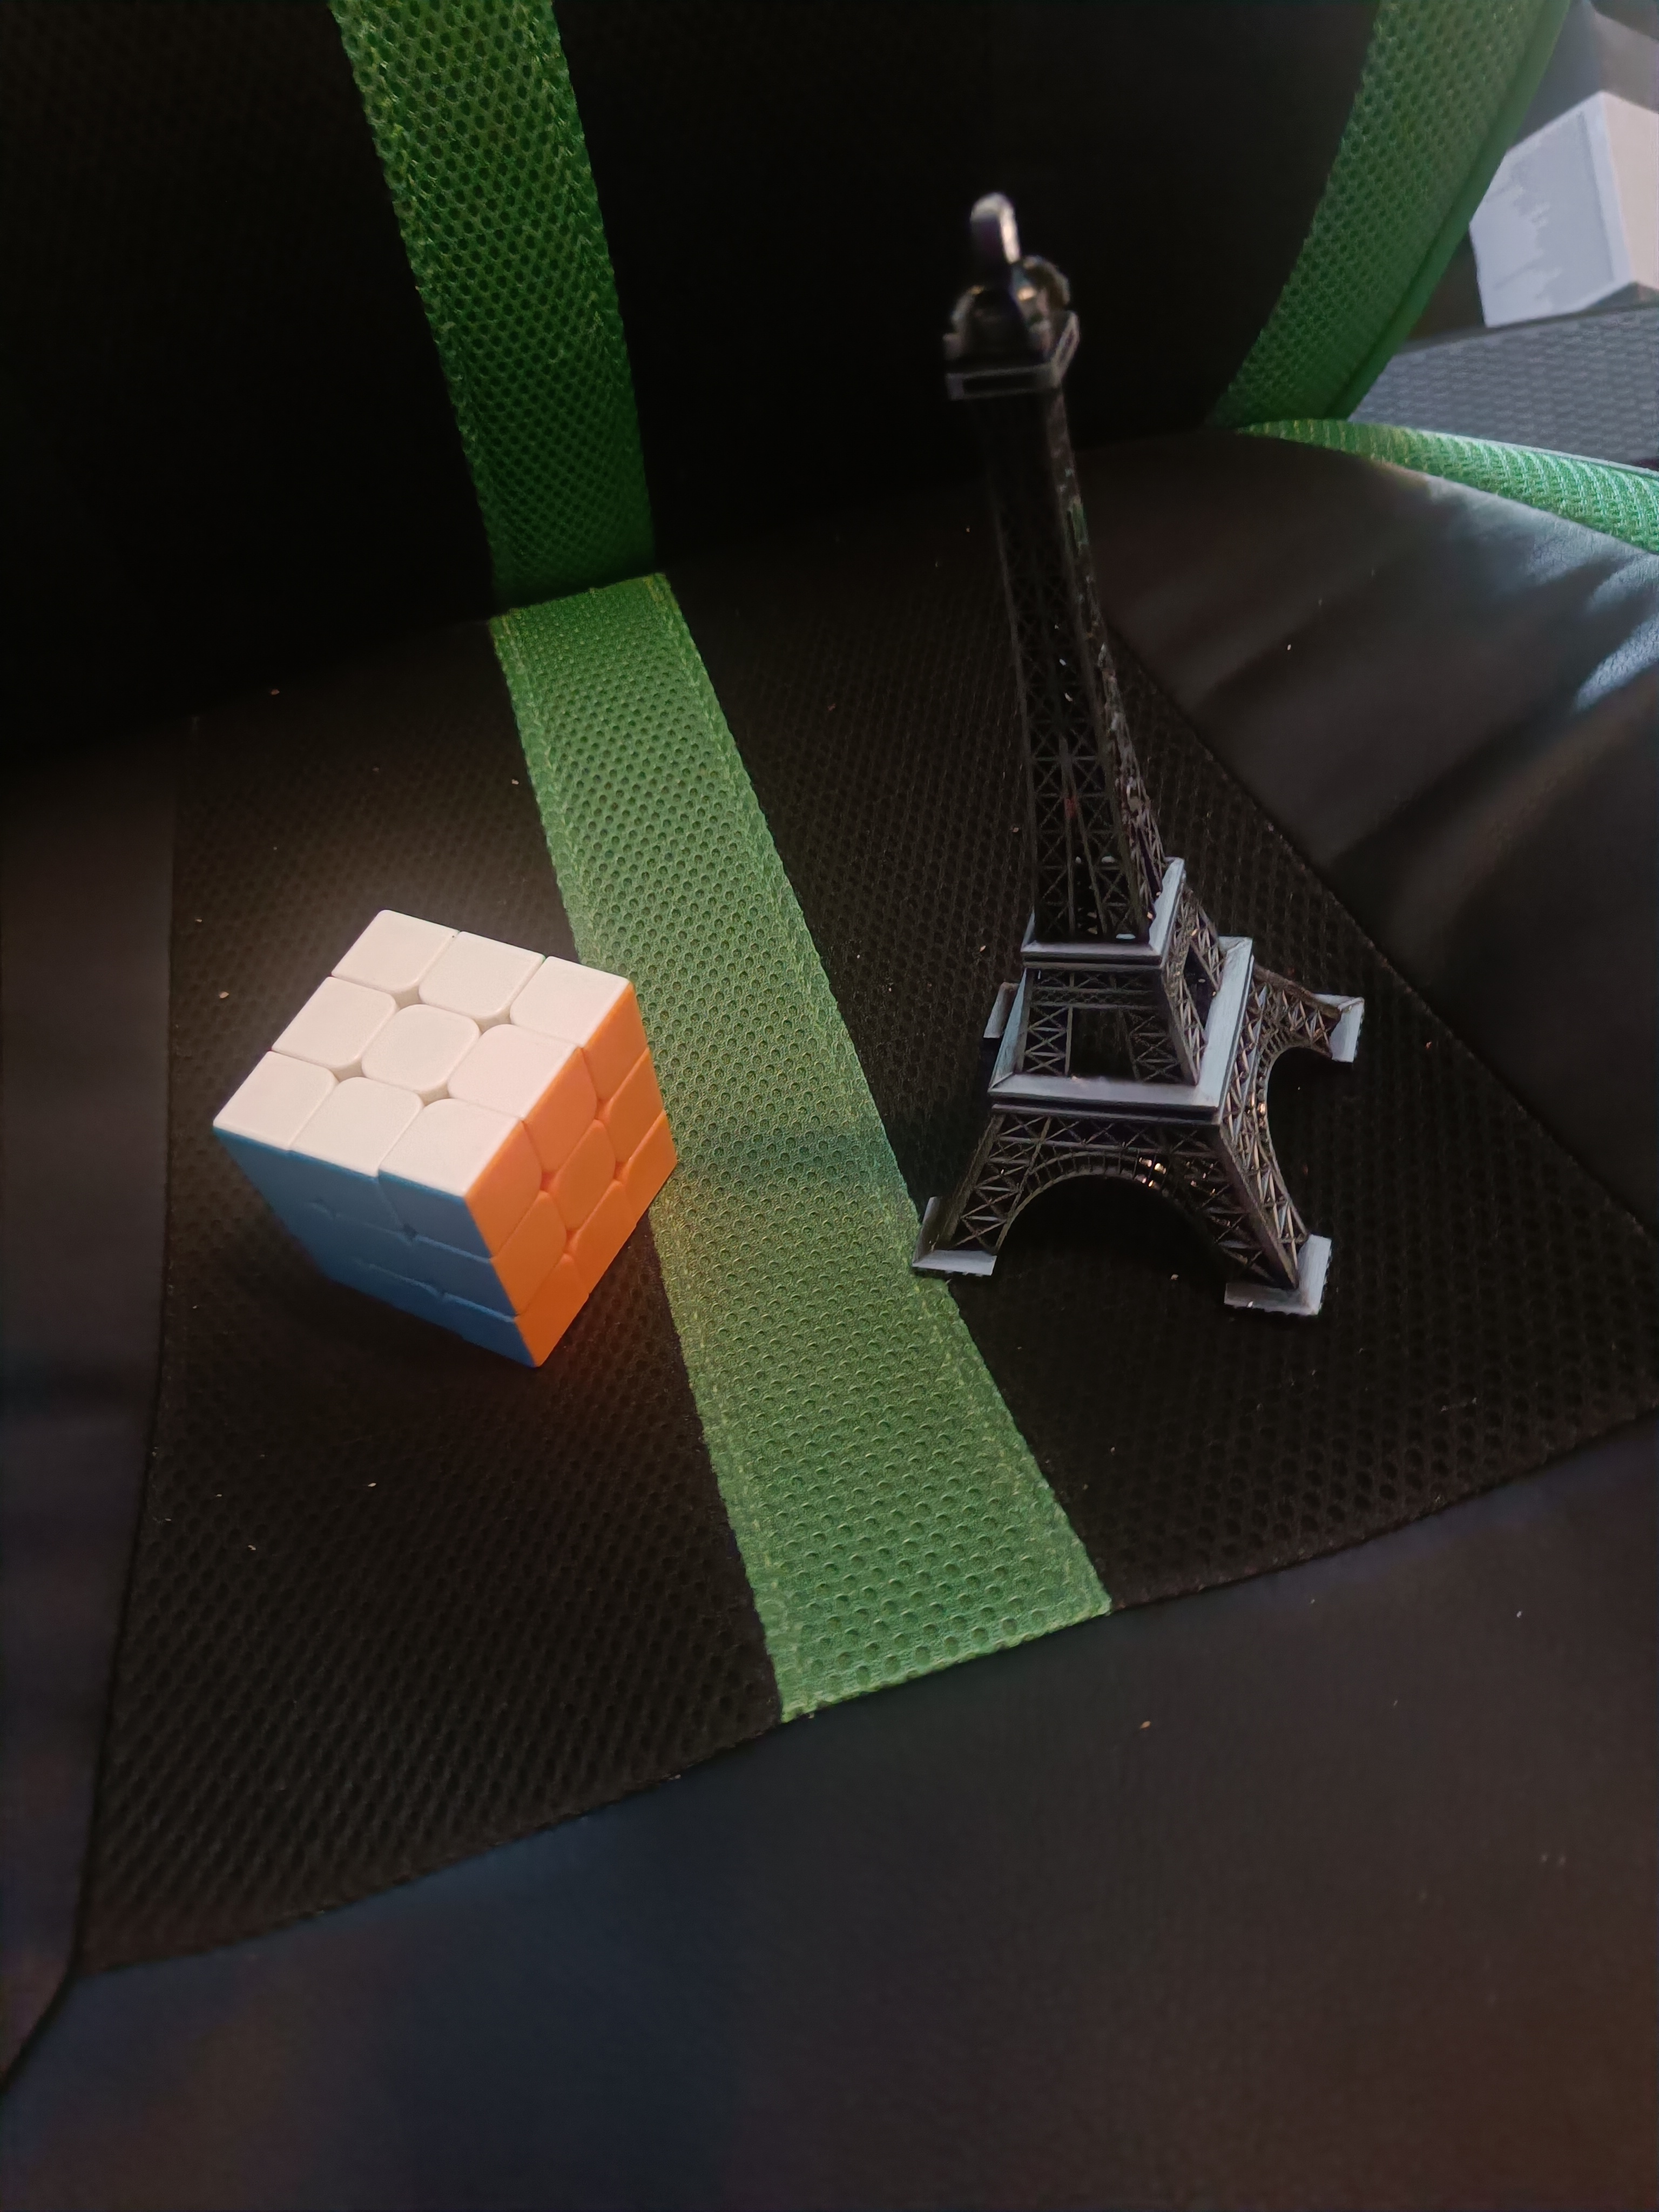Eiffel Tower: (901, 172, 1373, 1332)
Rubiks Cube: (193, 890, 692, 1379)
